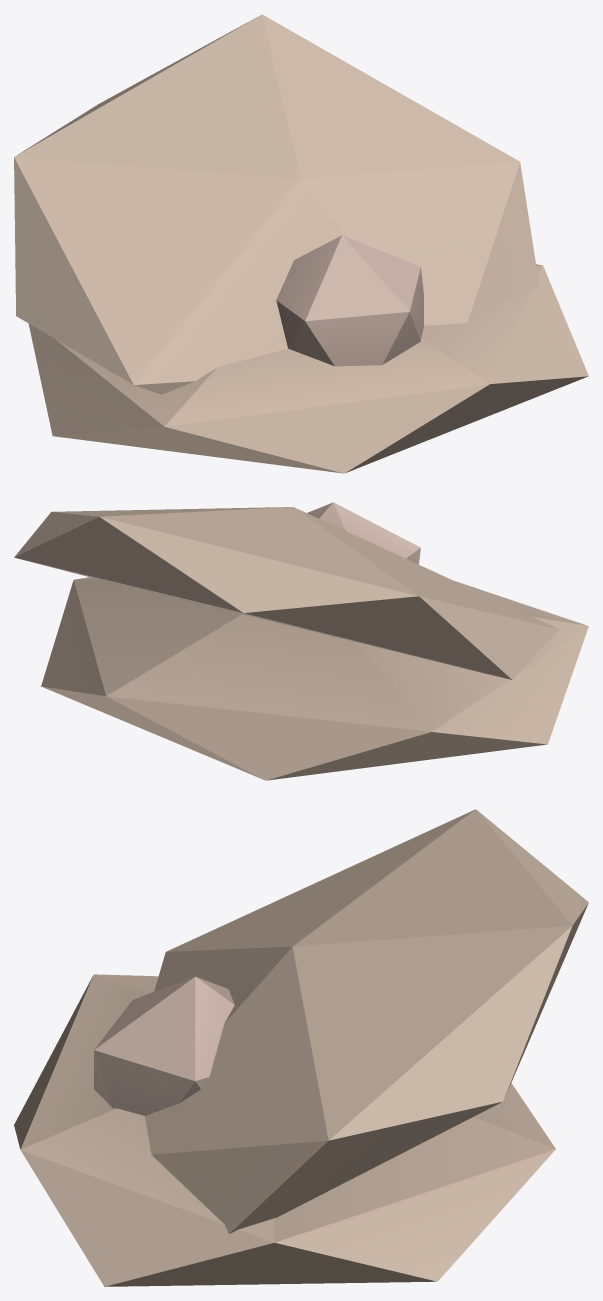
The model's file is ClamItem.fbx.
The picture shows the model from 3 angles, top to bottom: view 1: azimuth 30°, elevation 25°; view 2: azimuth 150°, elevation 25°; view 3: azimuth 270°, elevation 25°; orthographic projection. The views are drawn at different scales.
Parts seen in each view (by area): view 1: ClamItem; view 2: ClamItem; view 3: ClamItem.
Boxes of the visible parts, x1=… form: ClamItem: x1=14, y1=14, x2=588, y2=473; ClamItem: x1=14, y1=502, x2=588, y2=780; ClamItem: x1=14, y1=809, x2=588, y2=1286.
Bounding box in the file's own units: 0.1672 × 0.0871 × 0.1449.
